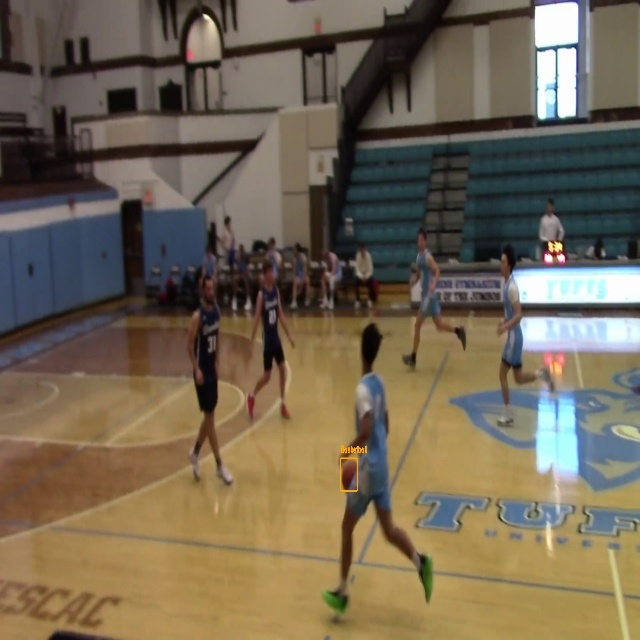Basketball: (341, 459, 357, 491)
